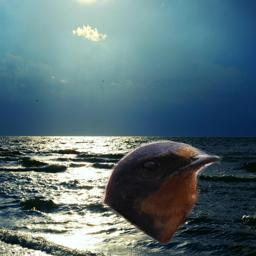Swallow: (101, 139, 224, 245)
